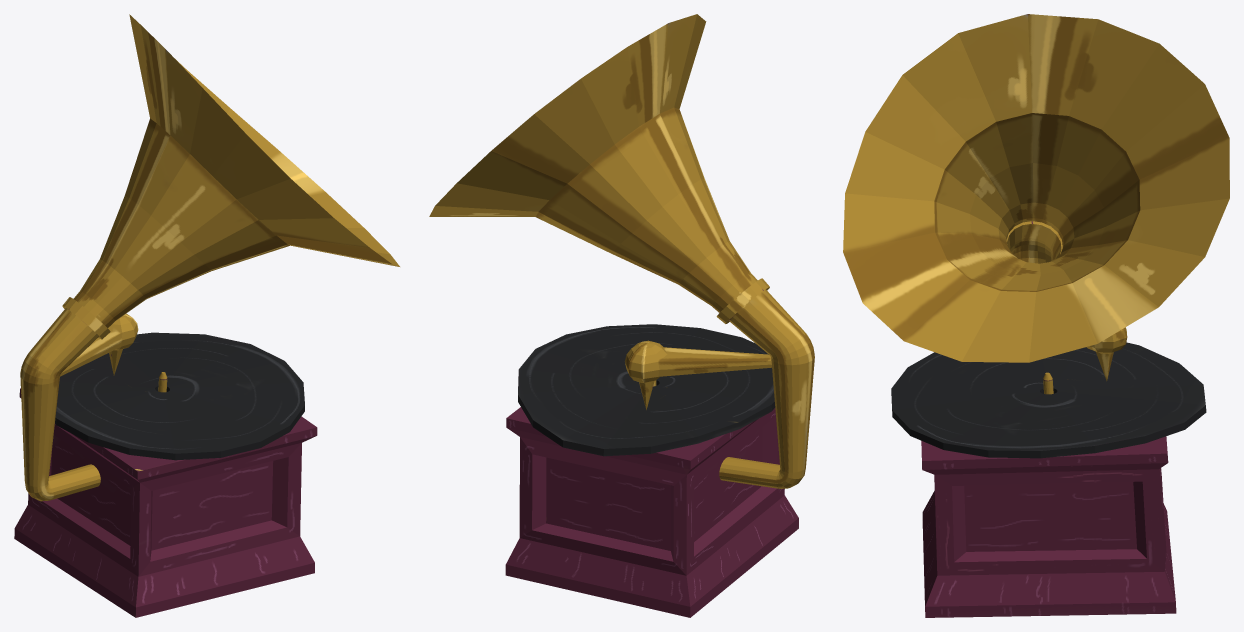
The model's file is Grammy_Animation.fbx.
3 renders of one model, left to right at view 1: azimuth 30°, elevation 25°; view 2: azimuth 150°, elevation 25°; view 3: azimuth 270°, elevation 25°, orthographic. The views are drawn at different scales.
Visible parts, largest first — view 1: Grammy; view 2: Grammy; view 3: Grammy.
Boxes of the visible parts, box(x1,y1,x2,y2) form: Grammy: box(14, 14, 399, 617); Grammy: box(429, 14, 814, 617); Grammy: box(843, 14, 1229, 617).
Size of the model in its own units: 58.18 by 84.07 by 53.23.
